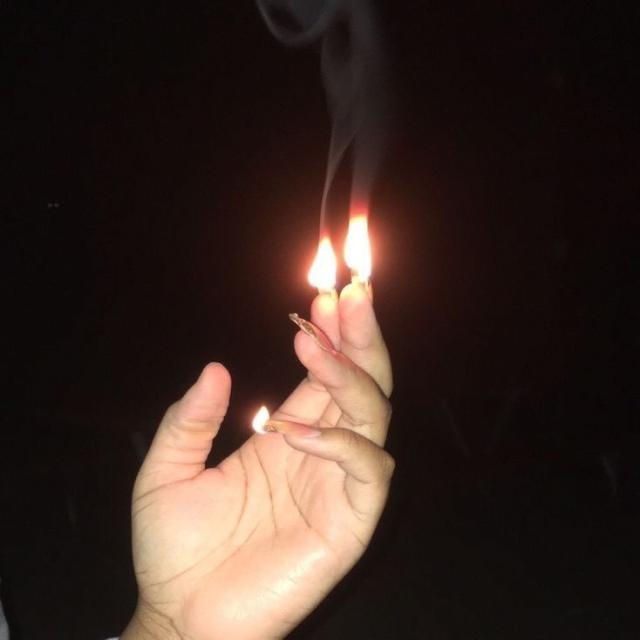fire: (344, 215, 372, 285), (307, 238, 337, 289)
